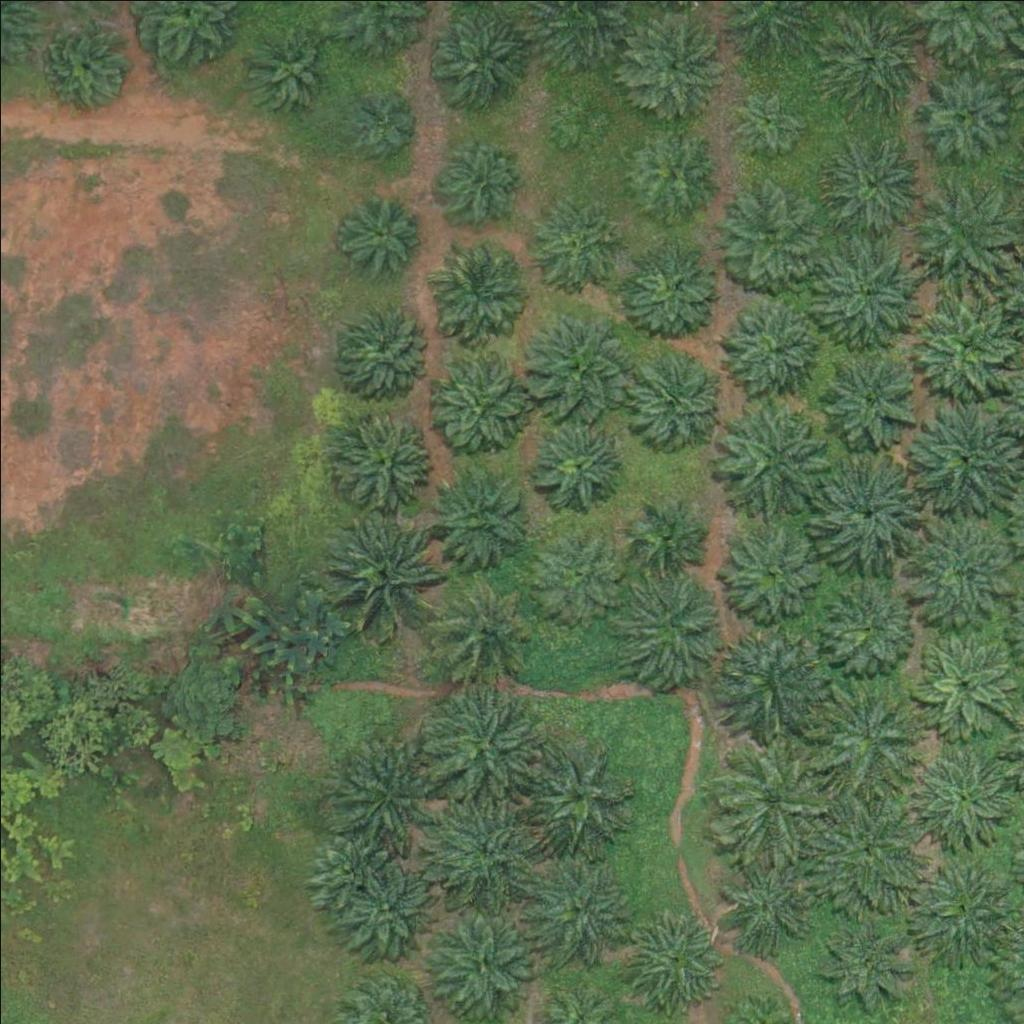Kelapa_Sawit: (718, 743, 831, 857), (614, 569, 727, 683), (422, 348, 535, 462), (524, 309, 637, 423), (422, 901, 535, 1014), (900, 516, 1013, 629), (908, 406, 1021, 519), (429, 790, 542, 903), (327, 728, 440, 841), (807, 231, 920, 344), (906, 285, 1019, 398), (910, 858, 1022, 972), (906, 743, 1018, 857), (811, 791, 923, 905), (814, 683, 926, 797), (714, 630, 826, 744), (717, 515, 829, 629), (325, 513, 437, 626), (809, 904, 921, 1017), (813, 463, 925, 576), (715, 398, 827, 511), (521, 739, 633, 852), (425, 686, 537, 799), (420, 455, 532, 568), (905, 174, 1017, 287), (427, 577, 527, 678), (527, 854, 627, 955), (625, 909, 725, 1010), (914, 637, 1014, 738), (819, 346, 919, 447), (719, 850, 819, 951), (333, 411, 433, 512), (520, 192, 620, 293), (622, 243, 722, 344), (618, 124, 718, 225), (626, 16, 726, 117), (722, 298, 822, 399), (721, 186, 821, 287), (821, 137, 921, 238), (824, 4, 924, 105), (911, 60, 1011, 161), (818, 581, 918, 681), (629, 348, 729, 448), (527, 525, 627, 625), (530, 413, 630, 513), (331, 298, 431, 398), (430, 238, 530, 338), (338, 186, 426, 274), (243, 24, 331, 112), (344, 864, 431, 952), (309, 824, 396, 912), (437, 134, 524, 222), (43, 21, 130, 109), (631, 503, 706, 579), (733, 80, 808, 155), (350, 91, 413, 154), (549, 88, 611, 151)
